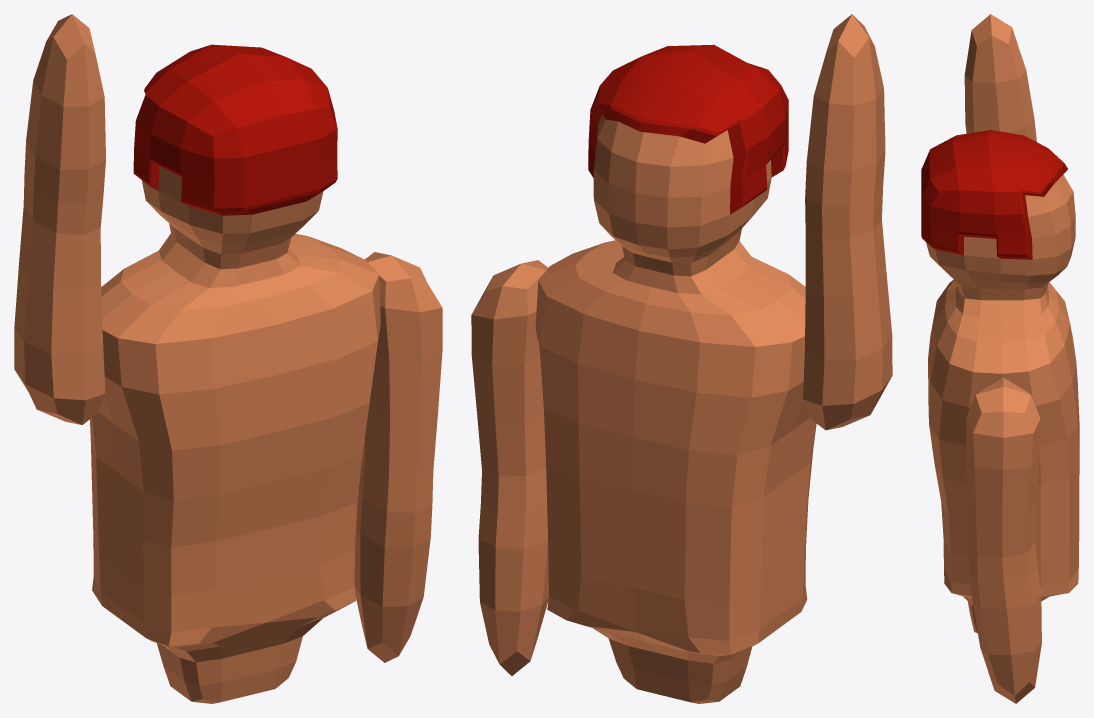
The model's file is kid_bot_001-1.FBX.
3 views of the same model, side by side, from view 1: azimuth 30°, elevation 25°; view 2: azimuth 150°, elevation 25°; view 3: azimuth 270°, elevation 25° (orthographic). The views are drawn at different scales.
Parts seen in each view (by area): view 1: child_bot, right_arm_002, child_bot_hair002, right_arm_001; view 2: child_bot, right_arm_002, right_arm_001, child_bot_hair002; view 3: child_bot, right_arm_001, child_bot_hair002, right_arm_002.
Part boxes in pixels (x1,y1,x2,y2): child_bot: (90,166,380,703); right_arm_002: (14,14,105,424); child_bot_hair002: (133,44,337,215); right_arm_001: (354,252,442,662); child_bot: (535,114,816,703); right_arm_002: (803,14,892,430); right_arm_001: (471,260,548,675); child_bot_hair002: (588,44,788,214); child_bot: (926,174,1079,633); right_arm_001: (966,378,1041,703); child_bot_hair002: (921,130,1067,259); right_arm_002: (964,14,1036,141).
Bounding box in the file's own units: 0.5859 × 1.02 × 0.2568.
